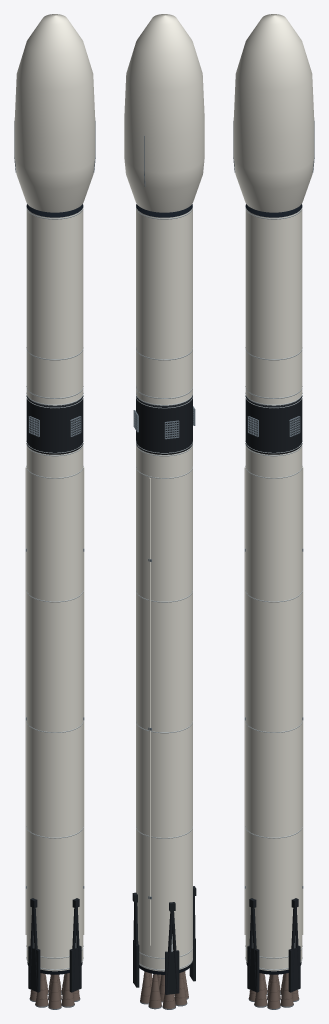
Rendered from dart_falcon9_launch.glb.
The picture shows the model from 3 angles, left to right: view 1: azimuth 90°, elevation 25°; view 2: azimuth 150°, elevation 25°; view 3: azimuth 270°, elevation 25°; orthographic projection.
Parts seen in each view (by area): view 1: falcon9_stage_1.mesh_Warm_white_enamel, falcon9_fairing_l.mesh_Warm_white_enamel, falcon9_stage_2.mesh_Warm_white_enamel, falcon9_interstage.mesh_Carbon_composite, falcon9_stage_1.landing_leg_03.shell.mesh_Carbon_composite, falcon9_stage_1.landing_leg_04.shell.mesh_Carbon_composite, falcon9_stage_1.mesh_Satin_aluminum, falcon9_stage_2.mesh_Satin_aluminum, falcon9_stage_1.merlin_08.bell.mesh_Heat-stained_alloy, falcon9_stage_2.payload_adapter.mesh_Shadowed_interior, falcon9_stage_1.merlin_07.bell.mesh_Heat-stained_alloy, falcon9_stage_1.merlin_09.bell.mesh_Heat-stained_alloy; view 2: falcon9_stage_1.mesh_Warm_white_enamel, falcon9_stage_2.mesh_Warm_white_enamel, falcon9_fairing_l.mesh_Warm_white_enamel, falcon9_fairing_r.mesh_Warm_white_enamel, falcon9_interstage.mesh_Carbon_composite, falcon9_stage_1.landing_leg_03.shell.mesh_Carbon_composite, falcon9_stage_1.mesh_Satin_aluminum, falcon9_stage_1.landing_leg_02.shell.mesh_Carbon_composite, falcon9_stage_2.mesh_Satin_aluminum, falcon9_stage_1.landing_leg_04.shell.mesh_Carbon_composite, falcon9_stage_1.merlin_06.bell.mesh_Heat-stained_alloy, falcon9_stage_2.payload_adapter.mesh_Shadowed_interior (+3 smaller); view 3: falcon9_stage_1.mesh_Warm_white_enamel, falcon9_fairing_r.mesh_Warm_white_enamel, falcon9_stage_2.mesh_Warm_white_enamel, falcon9_interstage.mesh_Carbon_composite, falcon9_stage_1.landing_leg_01.shell.mesh_Carbon_composite, falcon9_stage_1.landing_leg_02.shell.mesh_Carbon_composite, falcon9_stage_1.mesh_Satin_aluminum, falcon9_stage_2.mesh_Satin_aluminum, falcon9_stage_1.merlin_04.bell.mesh_Heat-stained_alloy, falcon9_stage_2.payload_adapter.mesh_Shadowed_interior, falcon9_stage_1.merlin_03.bell.mesh_Heat-stained_alloy, falcon9_stage_1.merlin_05.bell.mesh_Heat-stained_alloy.
Part boxes in pixels (x1,y1,x2,y2): falcon9_stage_1.mesh_Warm_white_enamel: (25, 444, 84, 971); falcon9_fairing_l.mesh_Warm_white_enamel: (14, 15, 95, 212); falcon9_stage_2.mesh_Warm_white_enamel: (26, 207, 83, 405); falcon9_interstage.mesh_Carbon_composite: (26, 396, 83, 454); falcon9_stage_1.landing_leg_03.shell.mesh_Carbon_composite: (28, 898, 40, 992); falcon9_stage_1.landing_leg_04.shell.mesh_Carbon_composite: (69, 898, 81, 992); falcon9_stage_1.mesh_Satin_aluminum: (26, 443, 83, 970); falcon9_stage_2.mesh_Satin_aluminum: (26, 207, 83, 405); falcon9_stage_1.merlin_08.bell.mesh_Heat-stained_alloy: (48, 974, 61, 1008); falcon9_stage_2.payload_adapter.mesh_Shadowed_interior: (26, 204, 83, 217); falcon9_stage_1.merlin_07.bell.mesh_Heat-stained_alloy: (35, 973, 48, 1006); falcon9_stage_1.merlin_09.bell.mesh_Heat-stained_alloy: (61, 973, 74, 1006); falcon9_stage_1.mesh_Warm_white_enamel: (136, 444, 192, 971); falcon9_stage_2.mesh_Warm_white_enamel: (136, 205, 192, 405); falcon9_fairing_l.mesh_Warm_white_enamel: (144, 14, 204, 212); falcon9_fairing_r.mesh_Warm_white_enamel: (124, 14, 169, 210); falcon9_interstage.mesh_Carbon_composite: (136, 395, 192, 454); falcon9_stage_1.landing_leg_03.shell.mesh_Carbon_composite: (165, 902, 179, 994); falcon9_stage_1.mesh_Satin_aluminum: (136, 443, 192, 970); falcon9_stage_1.landing_leg_02.shell.mesh_Carbon_composite: (132, 892, 139, 987); falcon9_stage_2.mesh_Satin_aluminum: (136, 205, 192, 405); falcon9_stage_1.landing_leg_04.shell.mesh_Carbon_composite: (189, 886, 196, 981); falcon9_stage_1.merlin_06.bell.mesh_Heat-stained_alloy: (148, 974, 161, 1008); falcon9_stage_2.payload_adapter.mesh_Shadowed_interior: (136, 204, 192, 217); falcon9_stage_1.mesh_Warm_white_enamel: (244, 444, 303, 971); falcon9_fairing_r.mesh_Warm_white_enamel: (233, 15, 314, 212); falcon9_stage_2.mesh_Warm_white_enamel: (245, 207, 302, 405); falcon9_interstage.mesh_Carbon_composite: (245, 396, 302, 454); falcon9_stage_1.landing_leg_01.shell.mesh_Carbon_composite: (247, 898, 259, 992); falcon9_stage_1.landing_leg_02.shell.mesh_Carbon_composite: (288, 898, 300, 992); falcon9_stage_1.mesh_Satin_aluminum: (245, 443, 302, 970); falcon9_stage_2.mesh_Satin_aluminum: (245, 207, 302, 405); falcon9_stage_1.merlin_04.bell.mesh_Heat-stained_alloy: (267, 974, 280, 1008); falcon9_stage_2.payload_adapter.mesh_Shadowed_interior: (245, 204, 302, 217); falcon9_stage_1.merlin_03.bell.mesh_Heat-stained_alloy: (254, 973, 267, 1006); falcon9_stage_1.merlin_05.bell.mesh_Heat-stained_alloy: (280, 973, 293, 1006).
Size of the model in its own units: 5.2 by 70 by 5.26.
